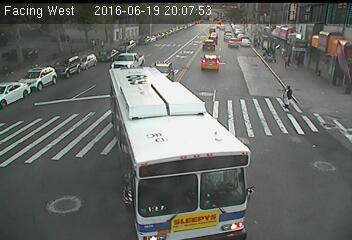neg: (172, 137, 214, 193), (38, 68, 72, 113), (84, 122, 117, 166), (270, 143, 301, 183), (189, 36, 219, 76), (319, 39, 349, 79), (23, 128, 50, 164), (107, 50, 133, 85), (250, 34, 276, 68), (64, 176, 88, 208), (313, 158, 337, 190), (150, 90, 171, 118)
pos: (280, 78, 304, 111)
